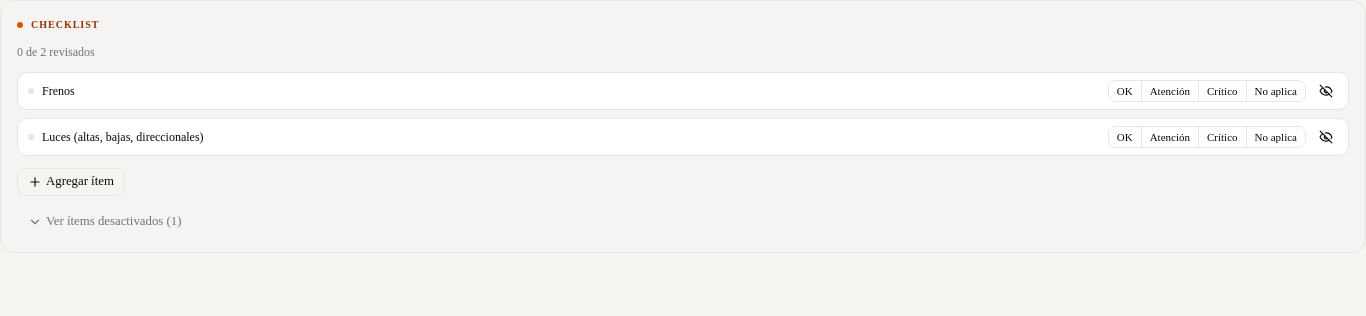
Test: DviChecklistForm › expands the inactive-items list on toggle click, showing the item's label
Expected: the text "Batería" is not shown
Click the button "Ver ítems desactivados (1)". click: (105, 222)
box: [17,208,192,236]
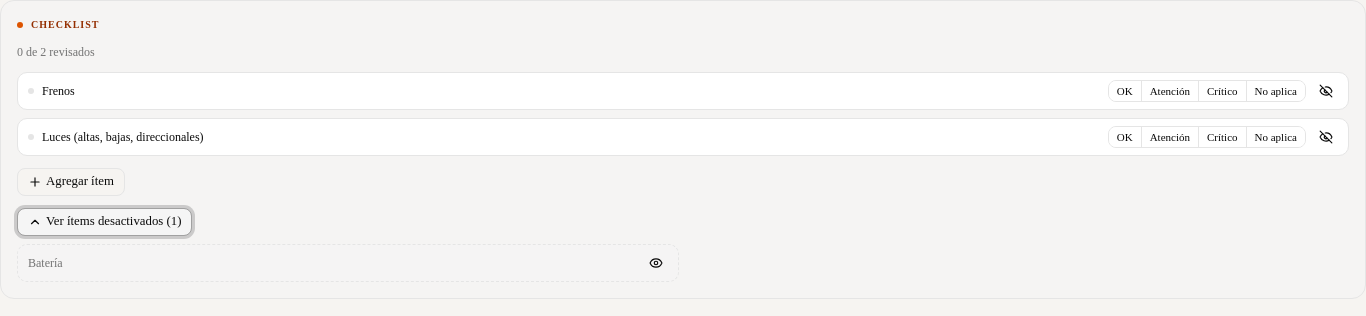
Expected: the text "Batería" is shown, [28,256,63,270]
Expected: the button named "Reactivar Batería" is shown, [644,251,668,275]
